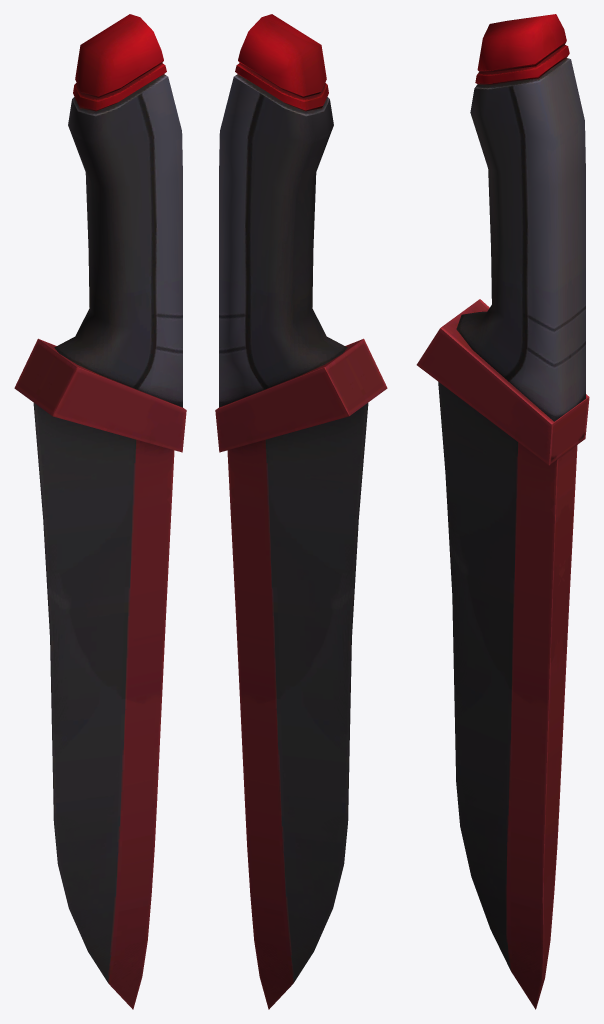
Rendered from Knife01.fbx.
The picture shows the model from 3 angles, left to right: view 1: azimuth 30°, elevation 25°; view 2: azimuth 150°, elevation 25°; view 3: azimuth 330°, elevation 25°; orthographic projection.
Visible parts, largest first — view 1: Blade01_low1; view 2: Blade01_low1; view 3: Blade01_low1.
Boxes of the visible parts, left/top/right/bottom form: Blade01_low1: left=14, top=14, right=186, bottom=1009; Blade01_low1: left=215, top=14, right=387, bottom=1009; Blade01_low1: left=416, top=14, right=589, bottom=1009.
Size of the model in its own units: 1.07 by 0.544 by 7.51.
